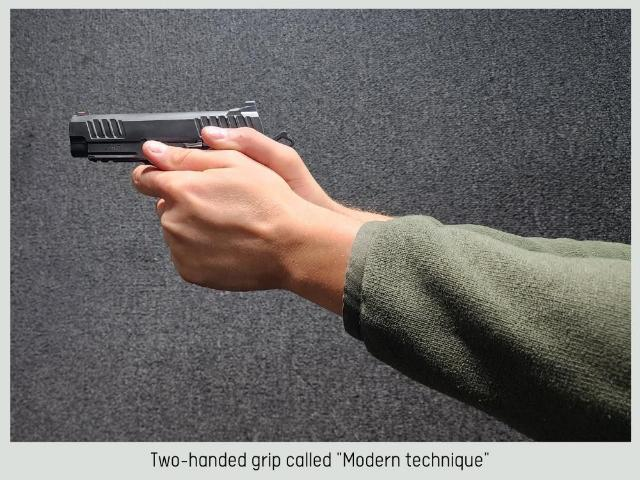handgun: (63, 97, 301, 189)
